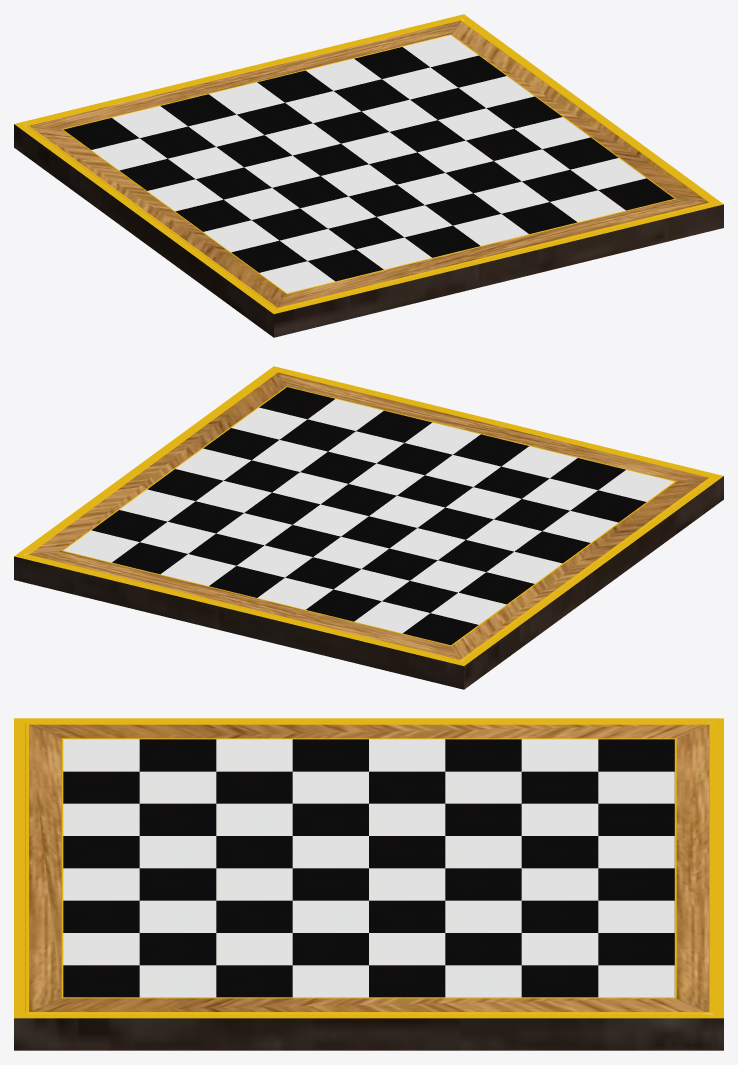
File: Board.obj
The picture shows the model from 3 angles, top to bottom: view 1: azimuth 30°, elevation 25°; view 2: azimuth 150°, elevation 25°; view 3: azimuth 270°, elevation 25°; orthographic projection. The views are drawn at different scales.
Parts seen in each view (by area): view 1: Chess_Board1_Board.003; view 2: Chess_Board1_Board.003; view 3: Chess_Board1_Board.003.
Boxes of the visible parts, bbox=[...] form: Chess_Board1_Board.003: bbox=[14, 14, 723, 337]; Chess_Board1_Board.003: bbox=[14, 366, 723, 689]; Chess_Board1_Board.003: bbox=[14, 718, 723, 1050].
Size of the model in its own units: 700 by 35.3 by 700.
